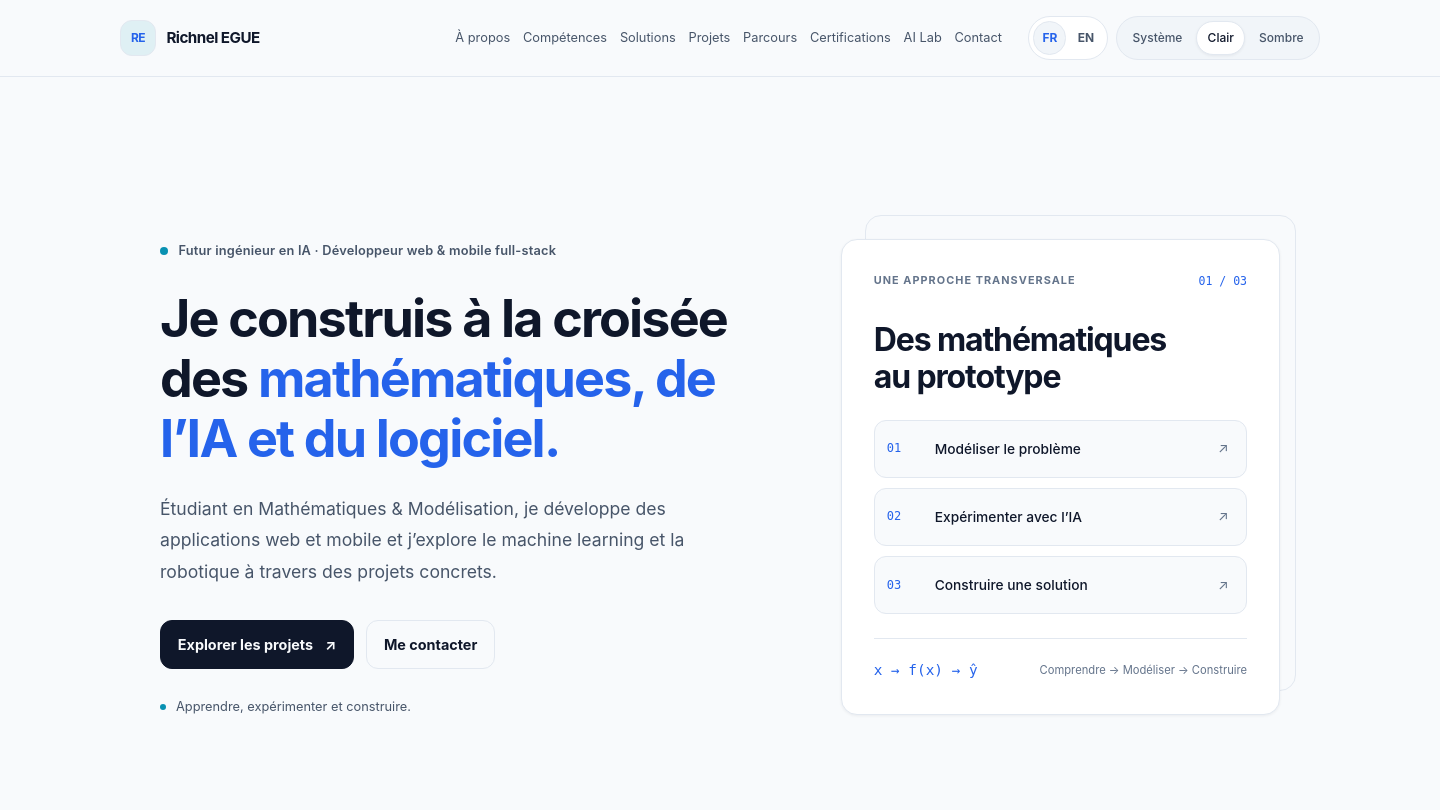
Scenario: renders the about section in French and English
This screenshot has width=1440, height=810.
Click the button with aria-label "Passer en anglais" at x=1086, y=38, box [1069,21,1103,55]
(page scrolled)
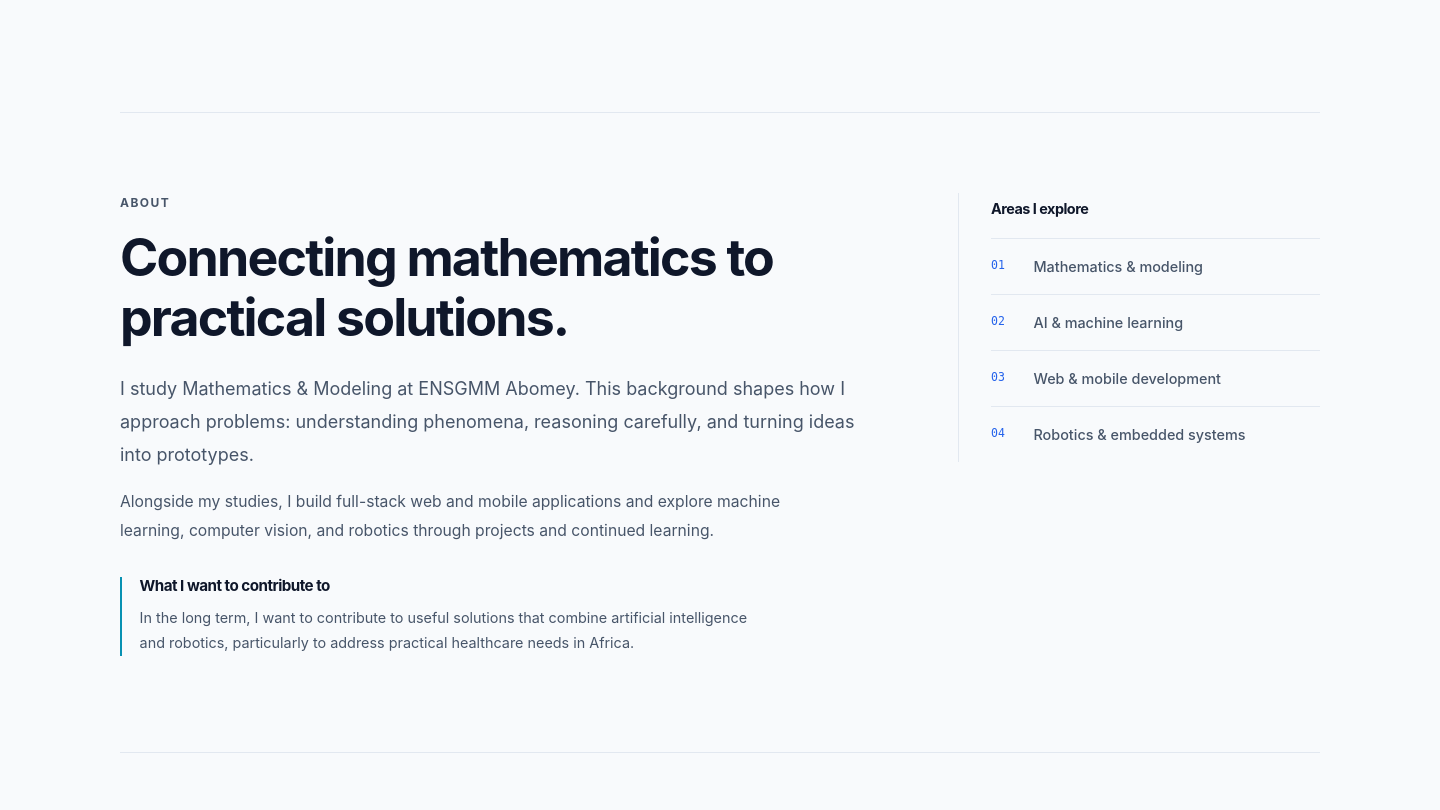
Expected: the heading "Connecting mathematics to practical solutions." is shown, [120,228,800,348]
Expected: the text "Mathematics & Modeling at ENSGMM Abomey" is shown, [120,378,854,465]
